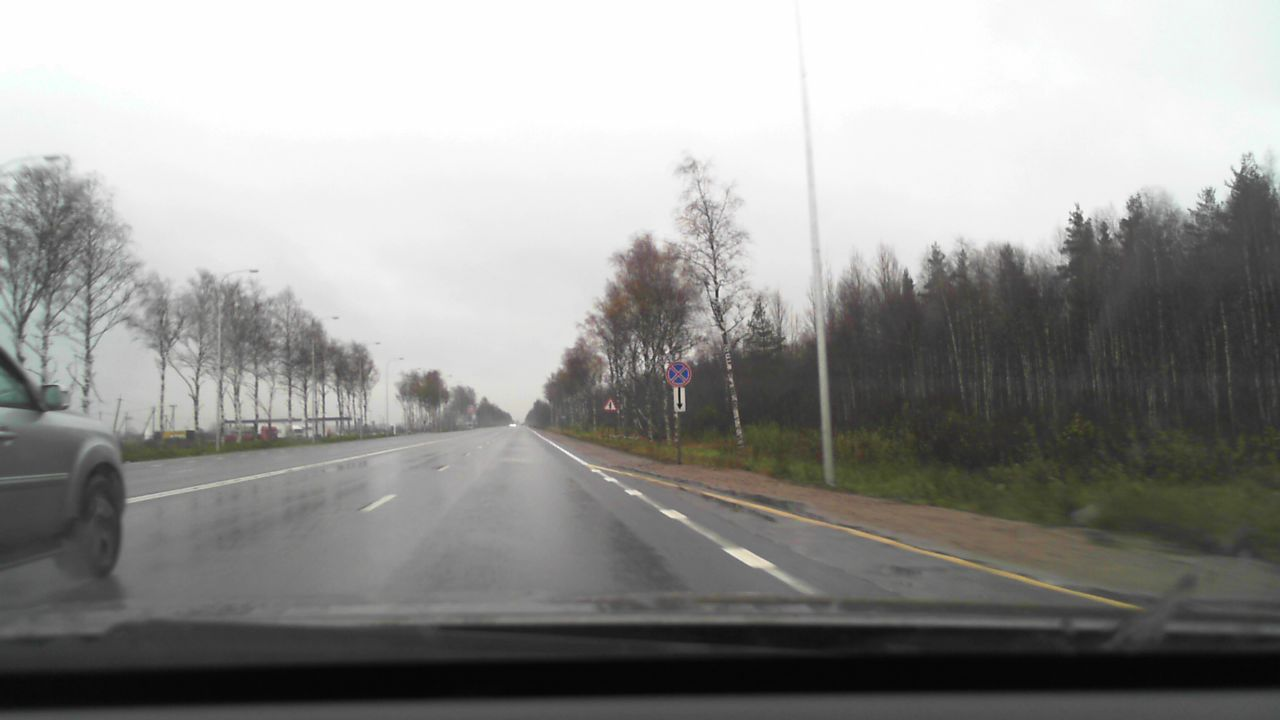No Parking: (666, 361, 691, 386)
